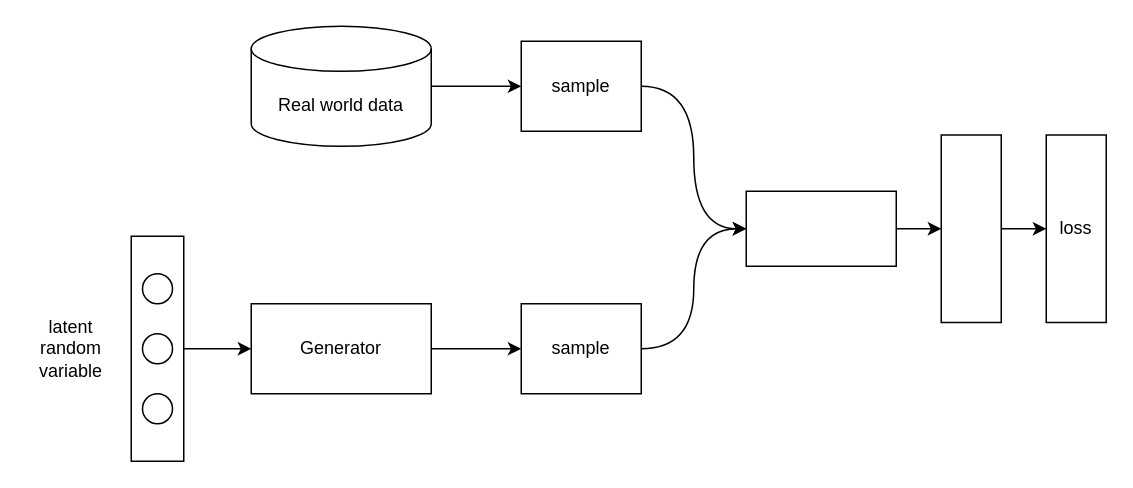
The diagram is 1133 pixels wide and 488 high, and some of its shapes have lost their labels. The shapes that lost their labels are listed below. From the top down, each one's centre as x and y in pixels, then its label:
At point (820, 228): "Discriminator".
At point (970, 228): "real or fake".
